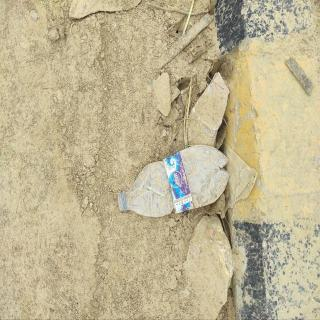Plastic-bottle: (116, 143, 232, 221)
